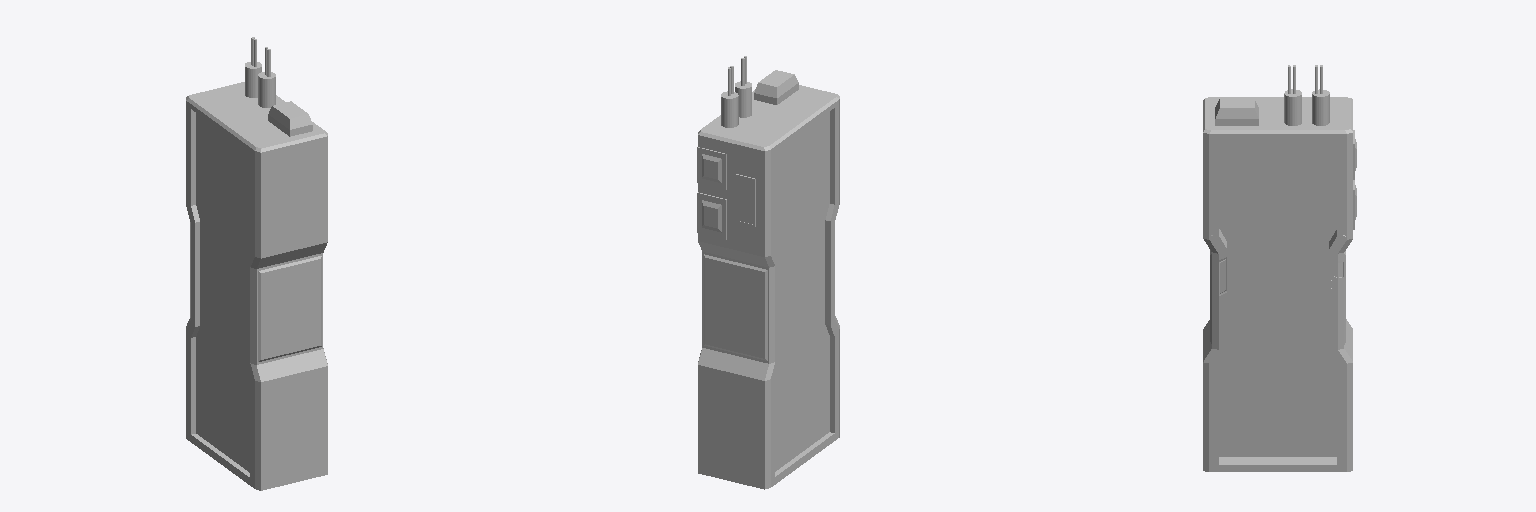
File: skyscraper.obj
3 renders of one model, left to right at view 1: azimuth 30°, elevation 25°; view 2: azimuth 150°, elevation 25°; view 3: azimuth 270°, elevation 25°, orthographic.
Parts seen in each view (by area): view 1: SkyScraper_1_Cube; view 2: SkyScraper_1_Cube; view 3: SkyScraper_1_Cube.
Part boxes in pixels (left/top/right/bottom): SkyScraper_1_Cube: left=186, top=37, right=327, bottom=490; SkyScraper_1_Cube: left=697, top=56, right=839, bottom=489; SkyScraper_1_Cube: left=1203, top=65, right=1356, bottom=471.
Bounding box in the file's own units: 20 × 105 × 36.84.